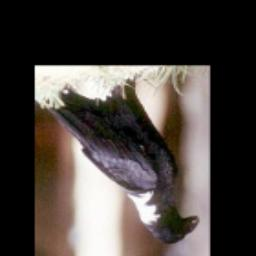Crow: (41, 74, 201, 251)
